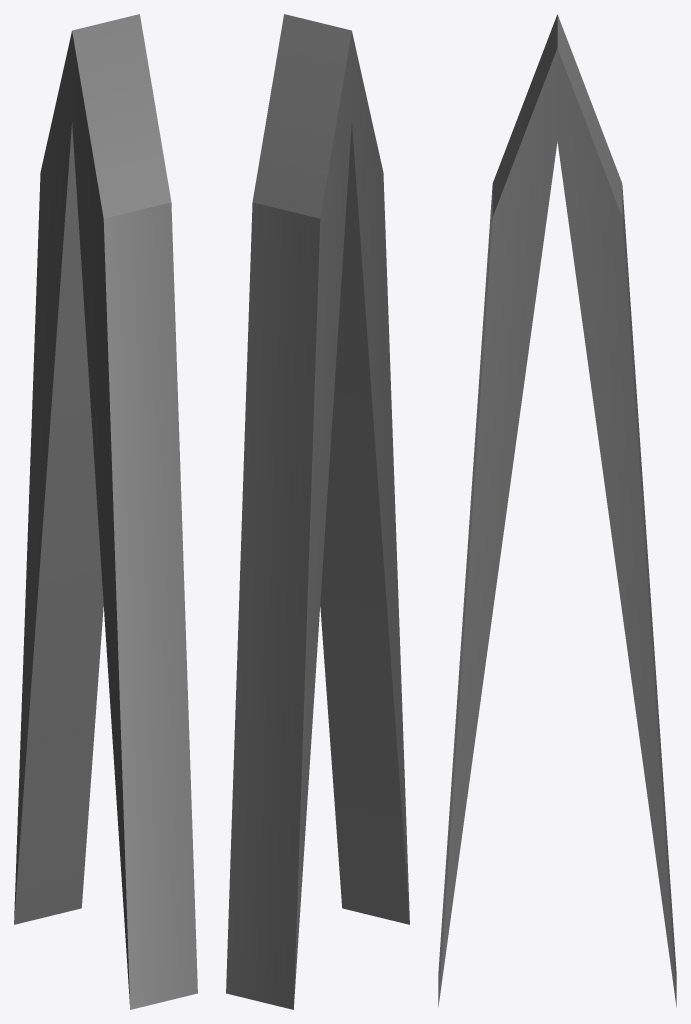
The model's file is SM_Graper.fbx.
The picture shows the model from 3 angles, left to right: view 1: azimuth 30°, elevation 25°; view 2: azimuth 150°, elevation 25°; view 3: azimuth 270°, elevation 25°; orthographic projection. The views are drawn at different scales.
Visible parts, largest first — view 1: Graper_Mash; view 2: Graper_Mash; view 3: Graper_Mash.
Part boxes in pixels (x1,y1,x2,y2): Graper_Mash: [14, 14, 197, 1009]; Graper_Mash: [226, 14, 409, 1009]; Graper_Mash: [438, 14, 676, 1007].
Bounding box in the file's own units: 0.0138 × 0.1816 × 0.0408.
